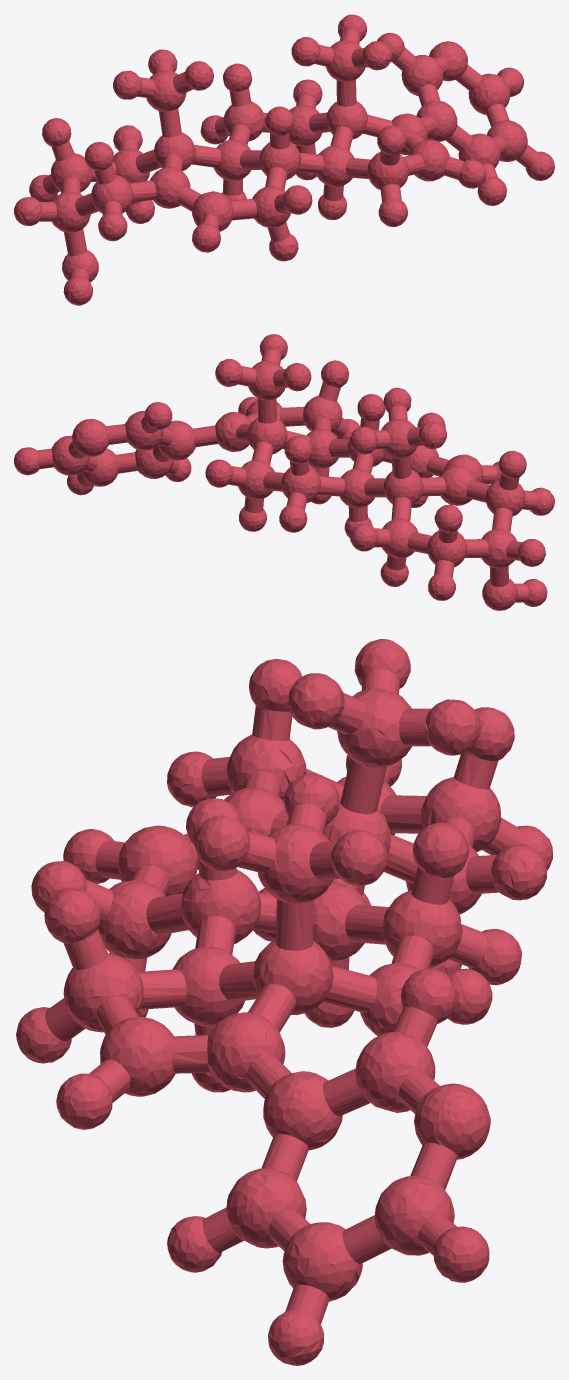
Rendered from molparent.glb.
3 renders of one model, top to bottom at view 1: azimuth 30°, elevation 25°; view 2: azimuth 150°, elevation 25°; view 3: azimuth 270°, elevation 25°, orthographic. The views are drawn at different scales.
Parts seen in each view (by area): view 1: Mesh_Mesh_head_geo.001_lambert2SG.001; view 2: Mesh_Mesh_head_geo.001_lambert2SG.001; view 3: Mesh_Mesh_head_geo.001_lambert2SG.001.
Boxes of the visible parts, box(x1,y1,x2,y2) form: Mesh_Mesh_head_geo.001_lambert2SG.001: box(14, 14, 554, 305); Mesh_Mesh_head_geo.001_lambert2SG.001: box(14, 334, 554, 610); Mesh_Mesh_head_geo.001_lambert2SG.001: box(16, 639, 552, 1365).
Bounding box in the file's own units: 122 × 44.62 × 56.
